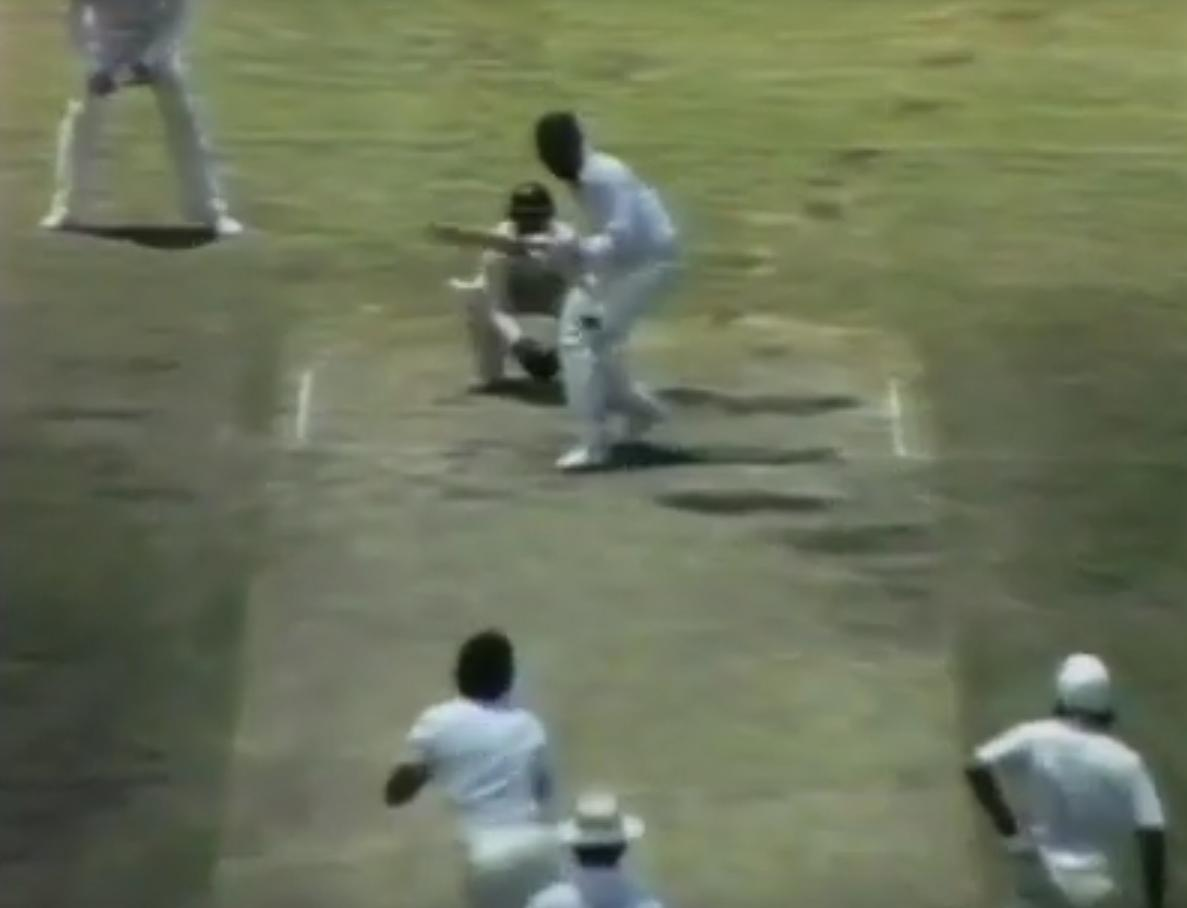Cricket-Ball: (573, 310, 609, 334)
